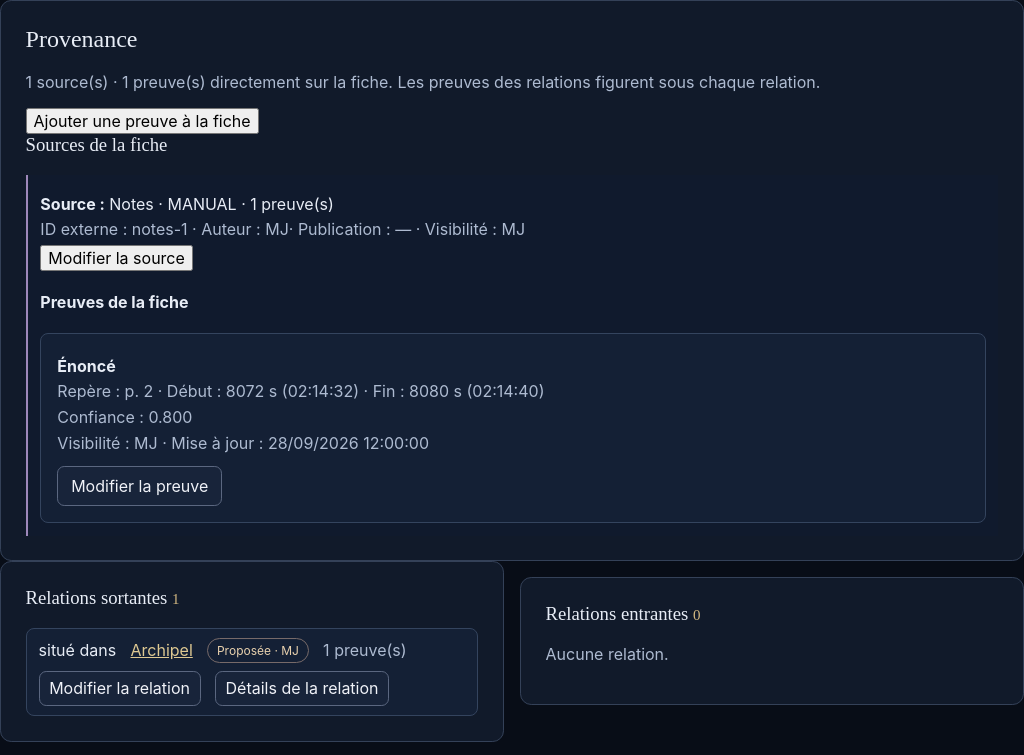
Test case: relations et provenance admin › charge les preuves différées uniquement à l’ouverture et garde les actions existantes
Click the button "Détails de la relation".
click(302, 688)  # box [215, 671, 389, 706]
(page scrolled)
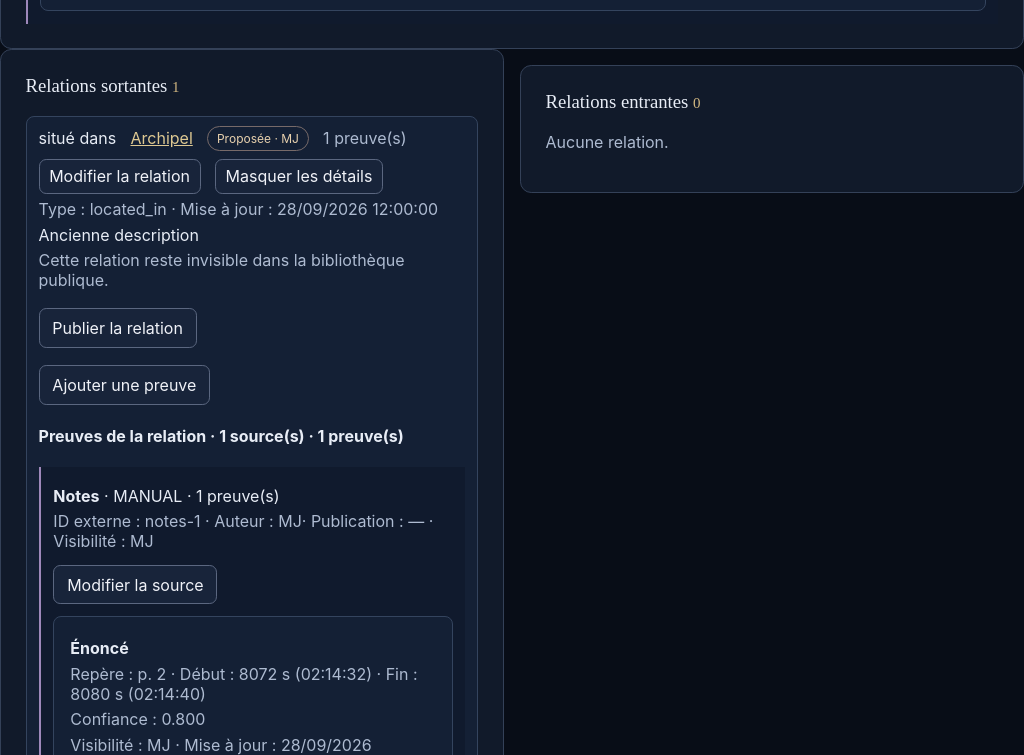
Expected: the button "Publier la relation" is enabled, [39, 308, 197, 348]
Expected: the button "Ajouter une preuve" is shown, [39, 365, 210, 405]
